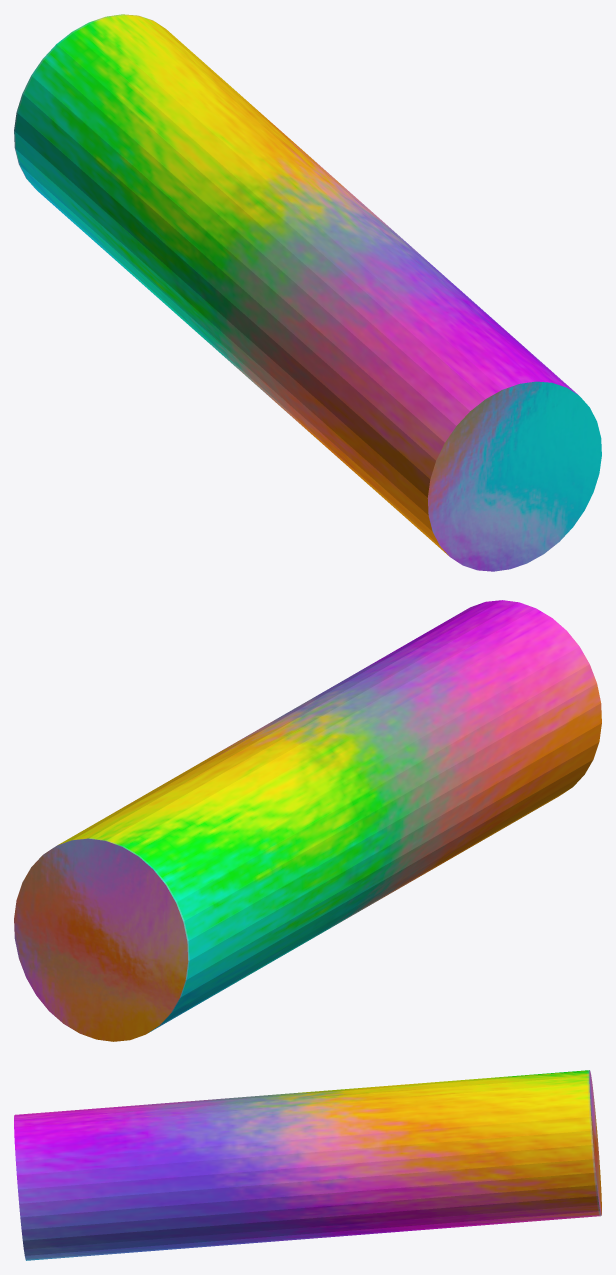
The picture shows the model from 3 angles, top to bottom: view 1: azimuth 30°, elevation 25°; view 2: azimuth 150°, elevation 25°; view 3: azimuth 270°, elevation 25°; orthographic projection. The views are drawn at different scales.
Visible parts, largest first — view 1: 円柱; view 2: 円柱; view 3: 円柱.
Boxes of the visible parts, x1=… form: 円柱: x1=14, y1=14, x2=601, y2=571; 円柱: x1=14, y1=600, x2=601, y2=1041; 円柱: x1=14, y1=1070, x2=601, y2=1260.
Size of the model in its own units: 2.11 by 2.97 by 8.89.
1 material, 1 textured.
